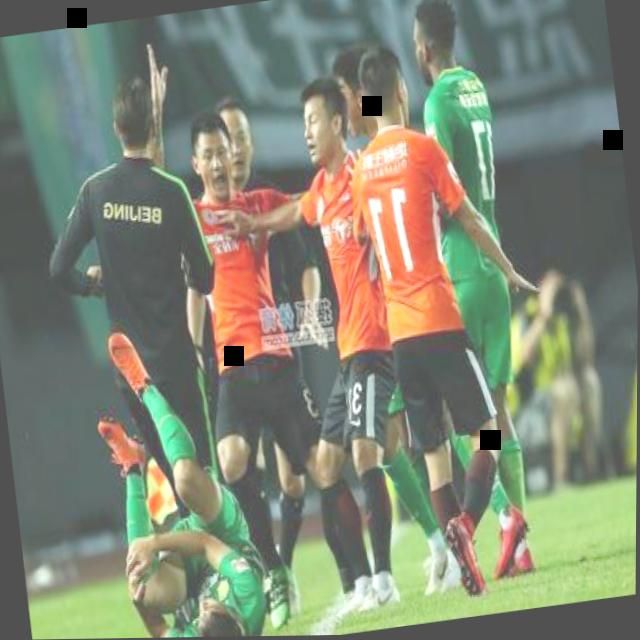Fall-Detected: (73, 316, 286, 639)
